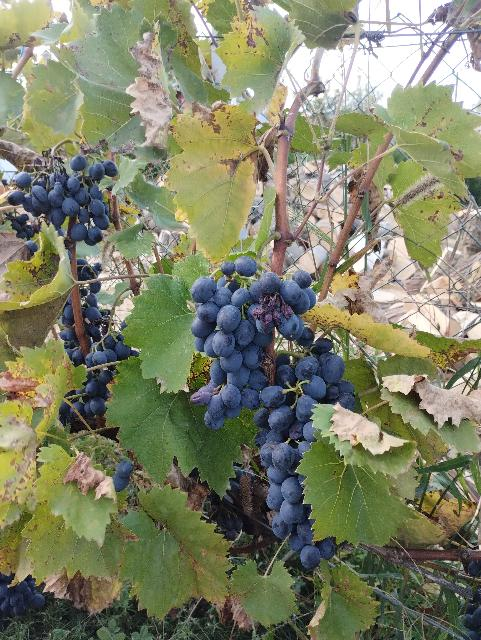grapes: (255, 338, 356, 570), (190, 256, 316, 430), (6, 155, 119, 246), (74, 369, 114, 418), (85, 325, 132, 366)
